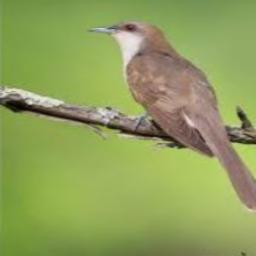Cuckoo: (87, 21, 256, 211)
